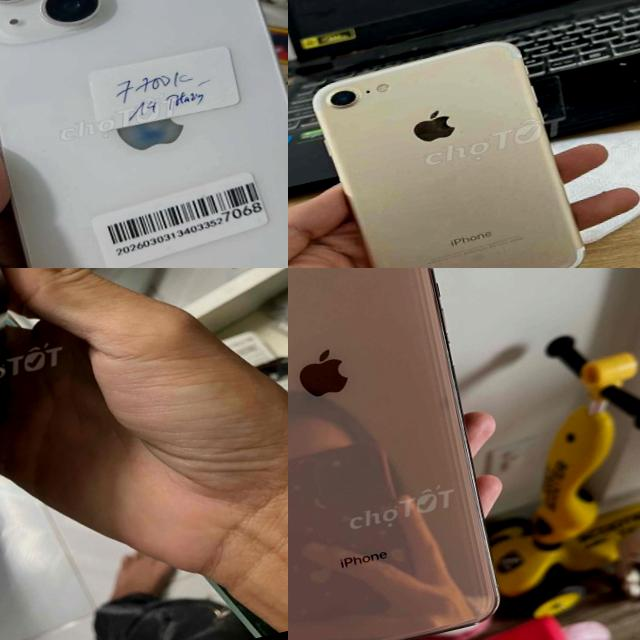gen_11: (0, 268, 169, 599)
gen_14: (0, 0, 288, 268)
gen_7_8: (302, 27, 599, 268)
gen_x_xs: (288, 268, 523, 640)
